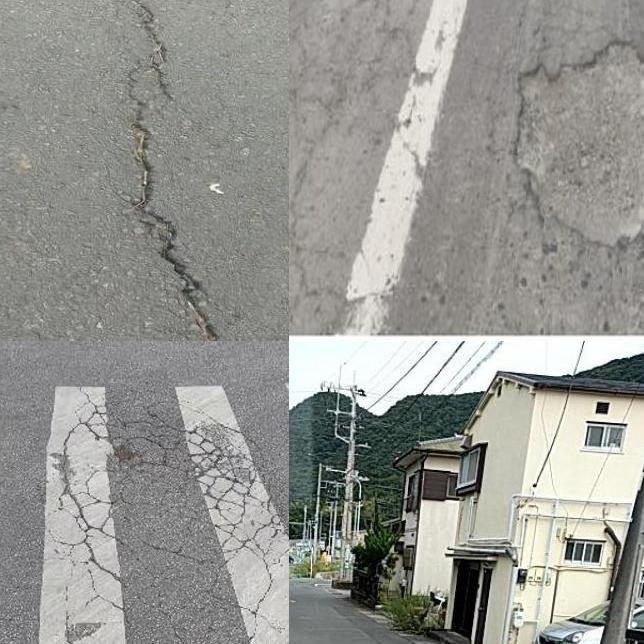Lubang: (506, 34, 644, 251)
Memanjang: (99, 0, 258, 341)
Retak Buaya: (45, 406, 289, 636)
